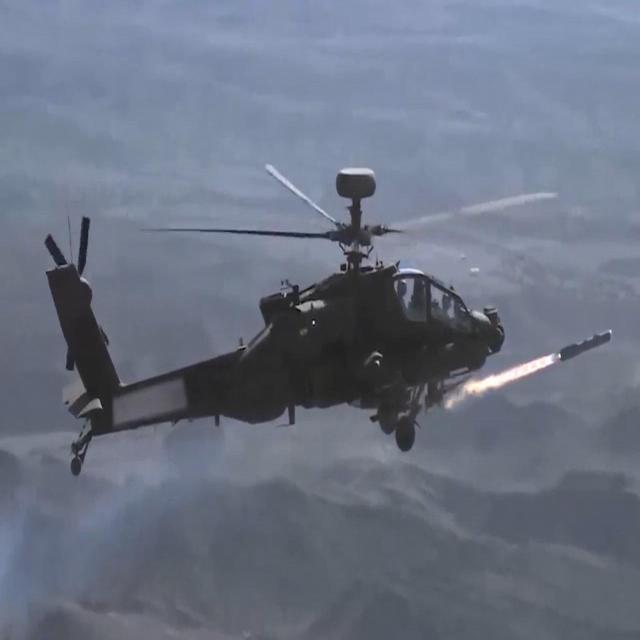MIL_HELO: (35, 152, 564, 489)
